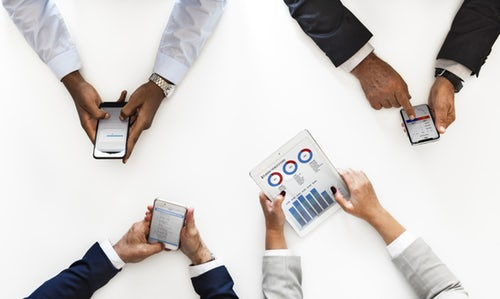phone: (92, 98, 133, 160), (147, 196, 188, 251), (397, 99, 446, 145)
